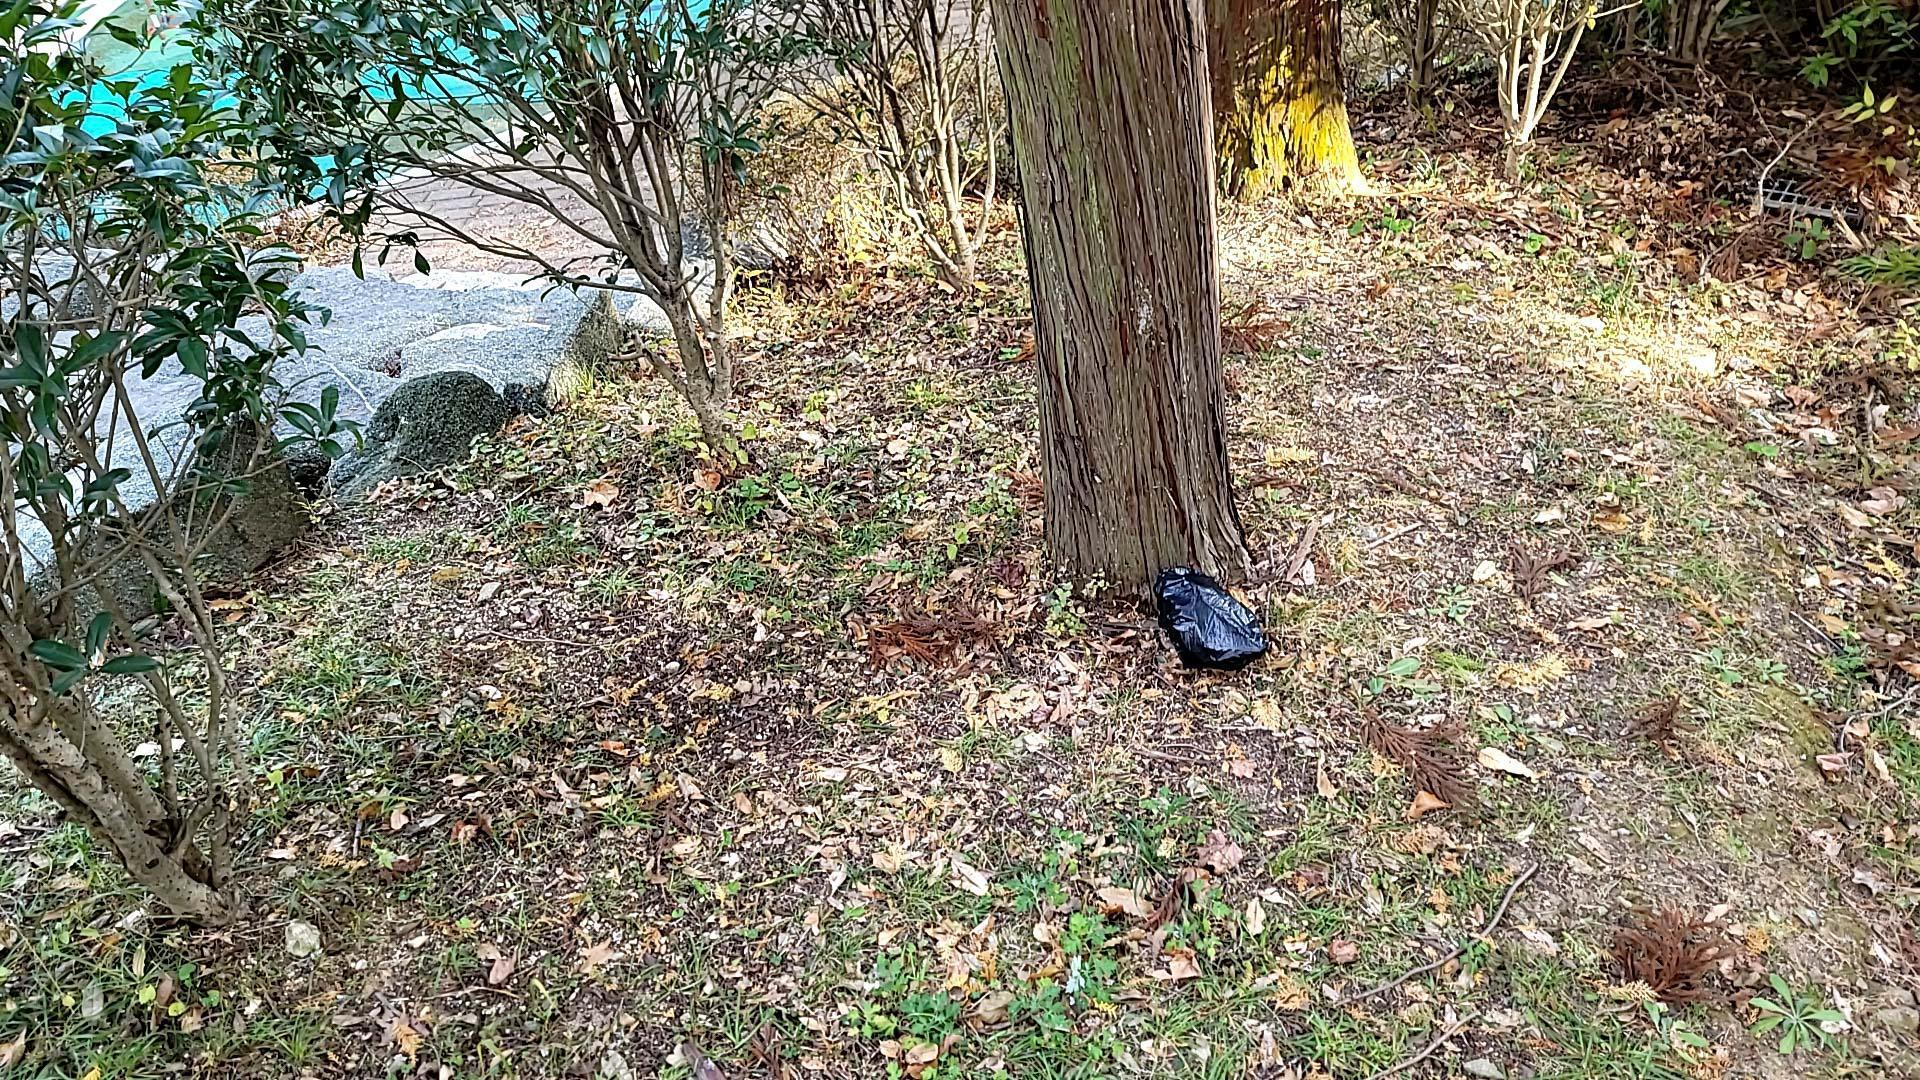black_bag: (1154, 560, 1269, 673)
